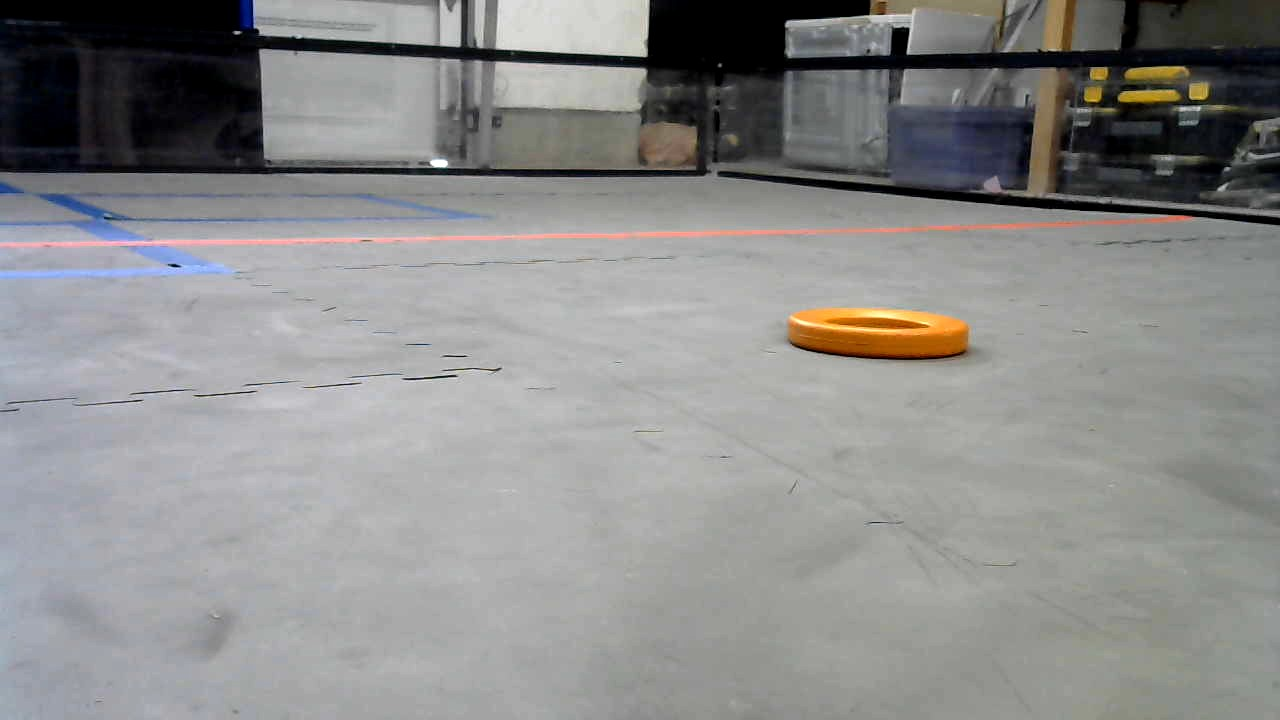OneStack: (790, 306, 971, 361)
